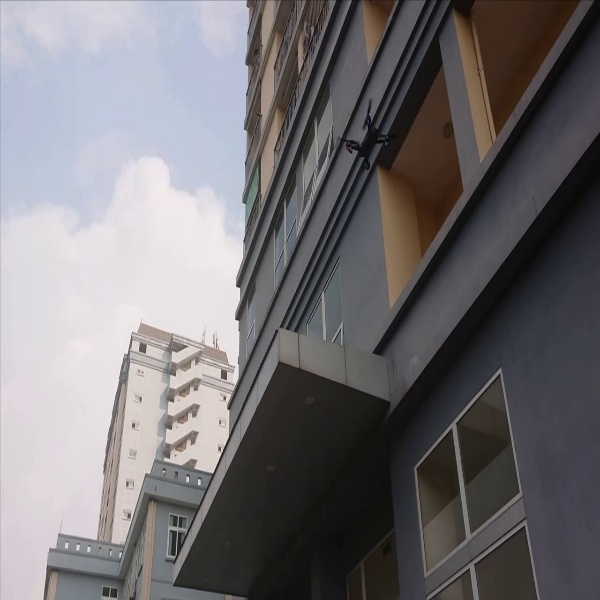drone: (333, 99, 397, 174)
